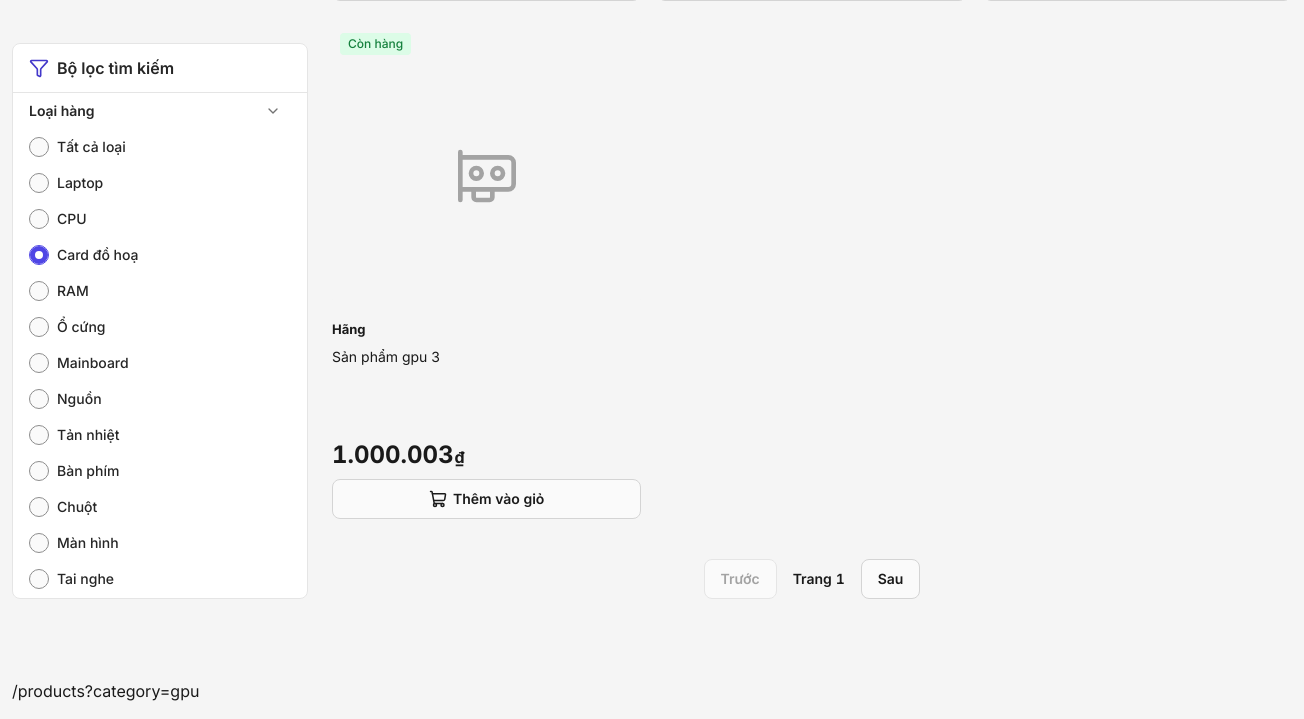
Test: ProductListPage › Sau: sang trang 2 theo nextCursor, cuộn lên và focus tiêu đề; Trước: về trang 1
(page scrolled)
Click the link with aria-label "Trang sau": point(891, 579) top-left (861, 559), bottom-right (920, 599)
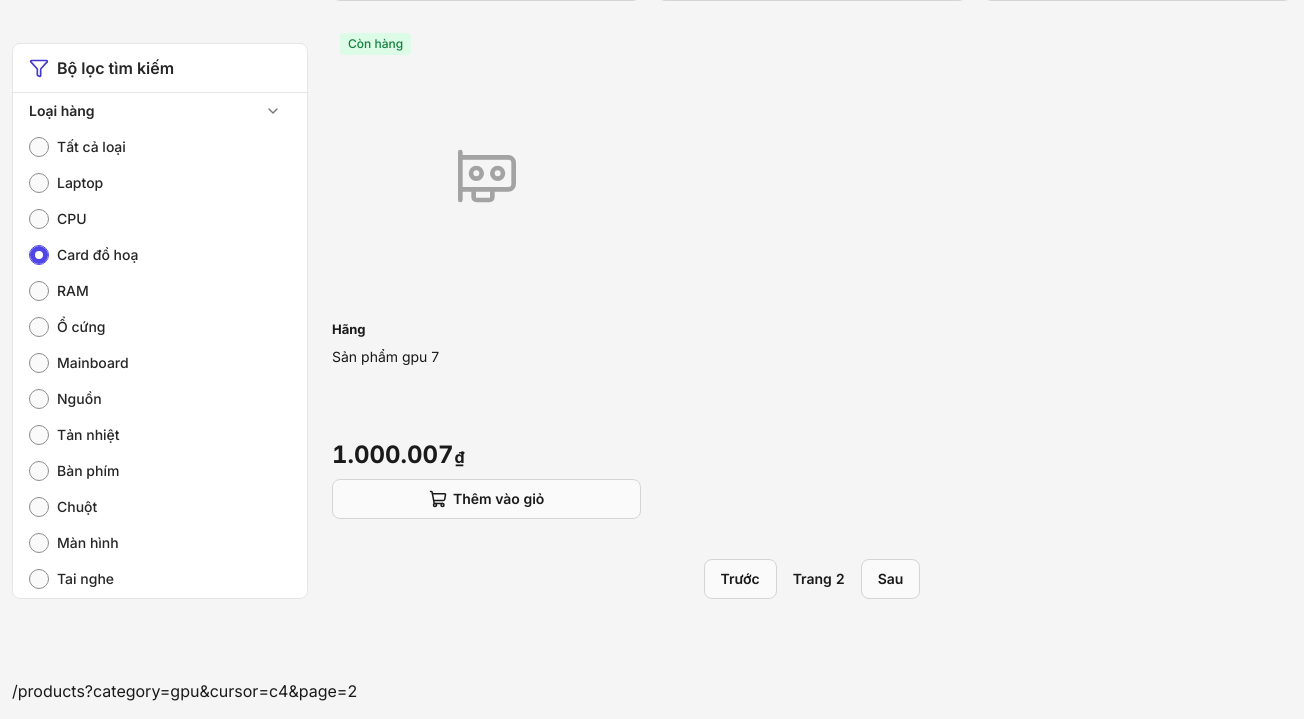
expect the text with test id "url" reads "/products?category=gpu&cursor=c4&page=2": met, box top-left (12, 681), bottom-right (357, 701)
Click the link with aria-label "Trang trước": point(740, 579) top-left (704, 559), bottom-right (777, 599)
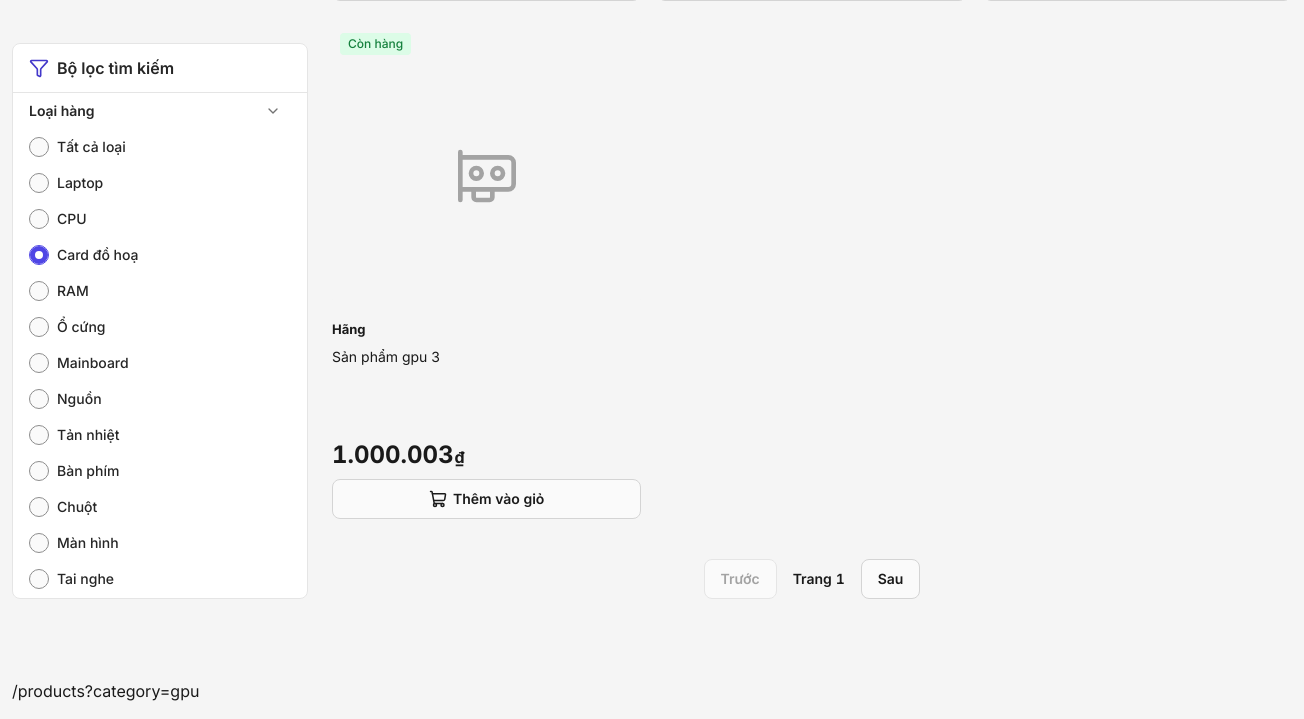
expect the text with test id "url" reads "/products?category=gpu": met, box top-left (12, 681), bottom-right (199, 701)
expect the text "Trang 1" is shown: met, box top-left (793, 570), bottom-right (845, 587)
